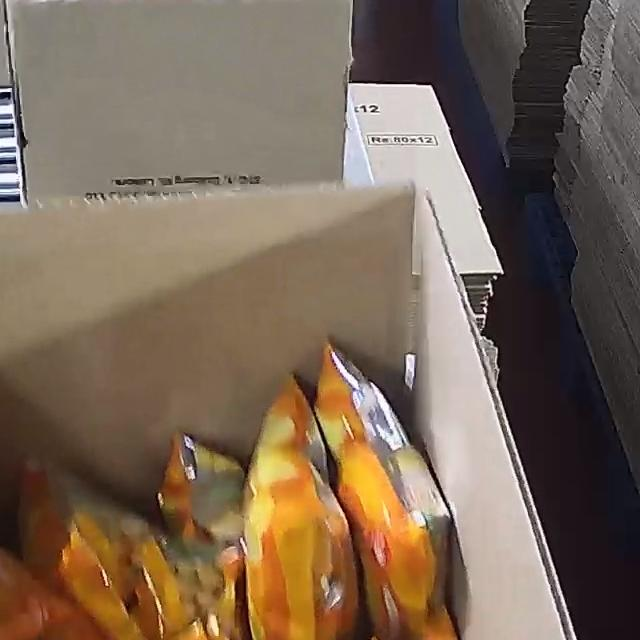cheese: (0, 339, 496, 640)
